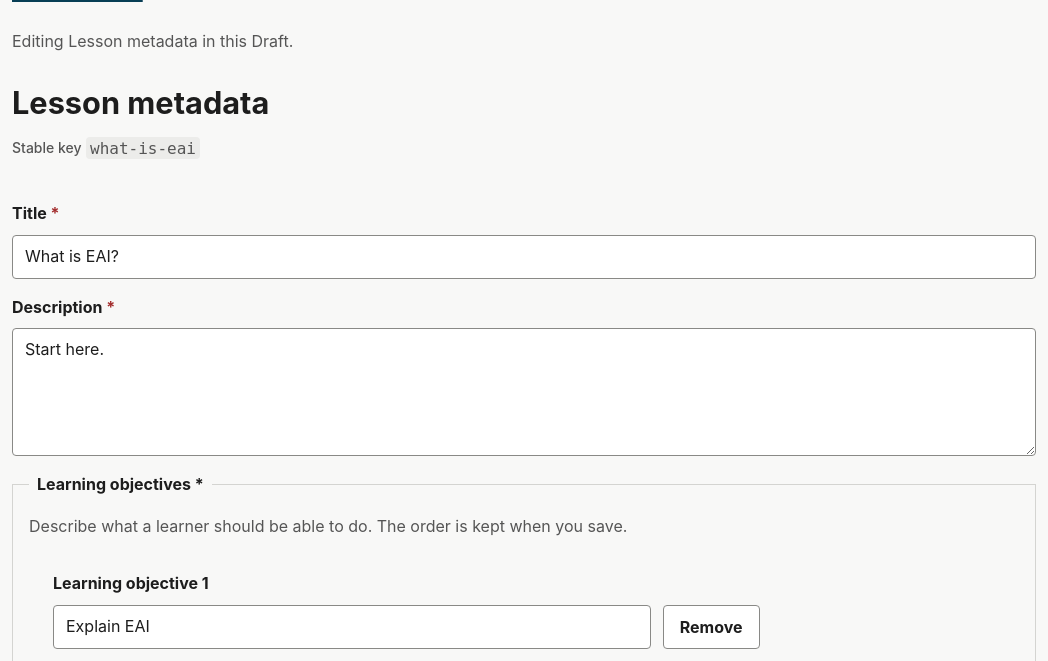
it: AuthoringDraftLessonPage › preserves a local prerequisite order after conflict and reloads only when requested
The width and height of the screenshot is (1048, 661).
Replace the text in the field labelled "Title *" with "My metadata title" at coordinates (524, 256), box [12,234,1036,278]
(page scrolled)
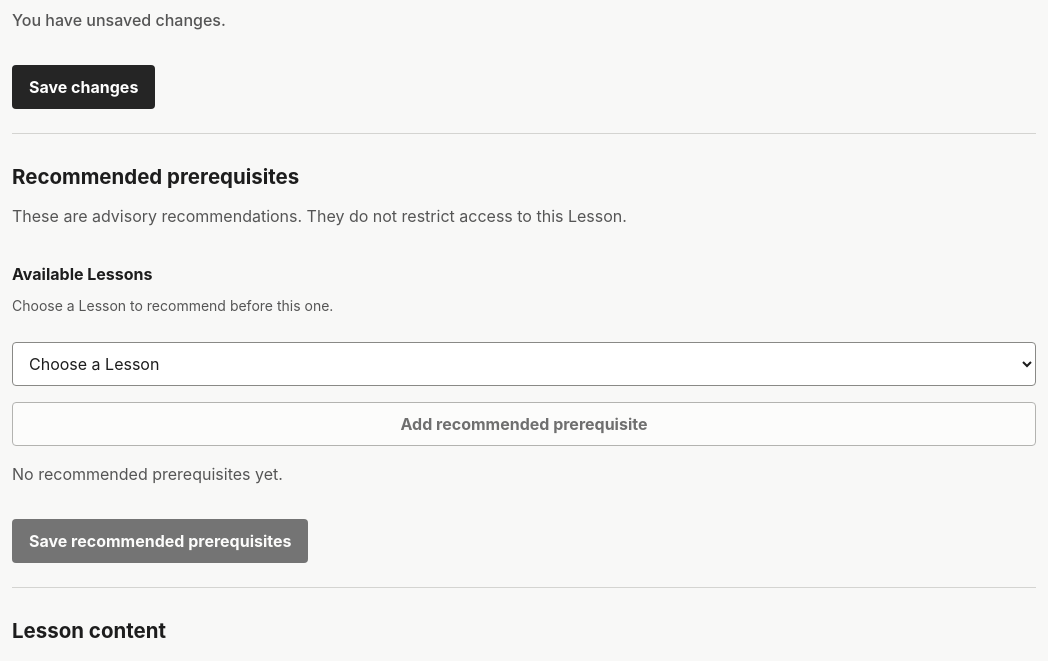
Select "Introduction to EAI (intro-to-eai)" in the dropdown labelled "Available Lessons" at coordinates (524, 364), box [12,342,1036,386]
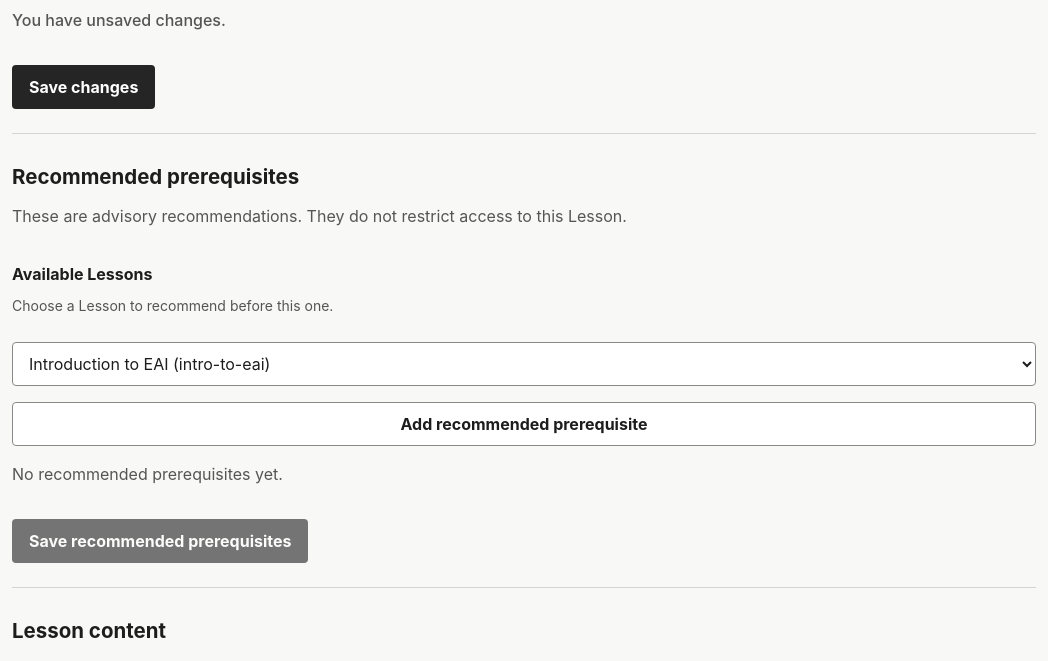
Click the button "Add recommended prerequisite" at coordinates (524, 424), box [12,402,1036,446]
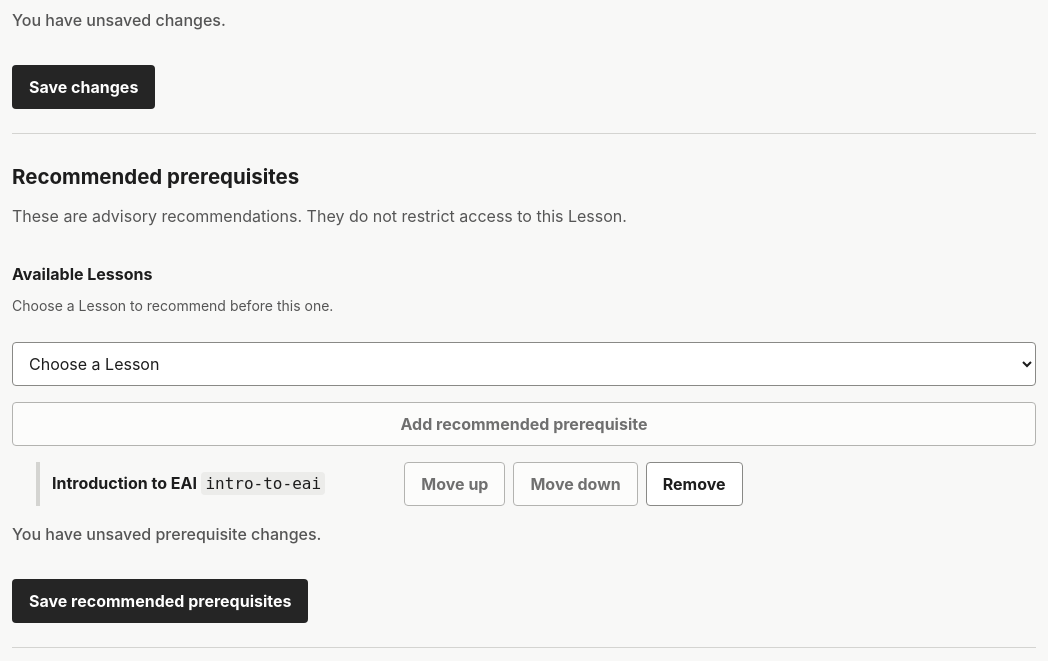
Click the button "Save recommended prerequisites" at coordinates (160, 601), box [12,579,308,623]
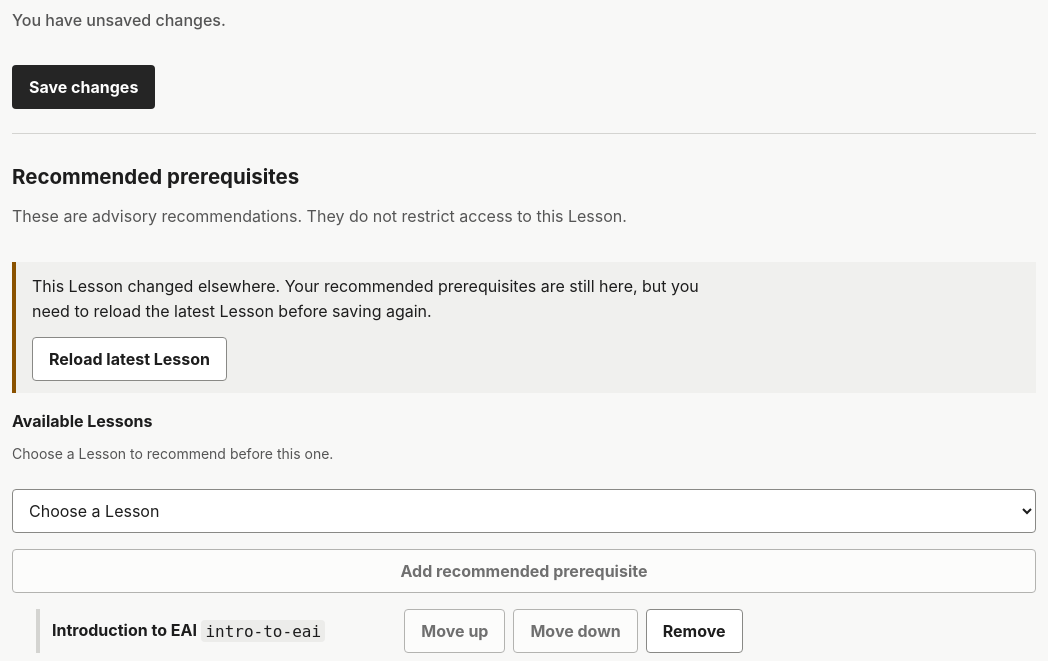
Expected: the text "Introduction to EAI" is shown, [52,620,197,640]
Expected: the text "recommended prerequisites are still here" is shown, [32,276,699,321]
Click the button "Reload latest Lesson" at coordinates (130, 359), box [32,337,227,381]
(page scrolled)
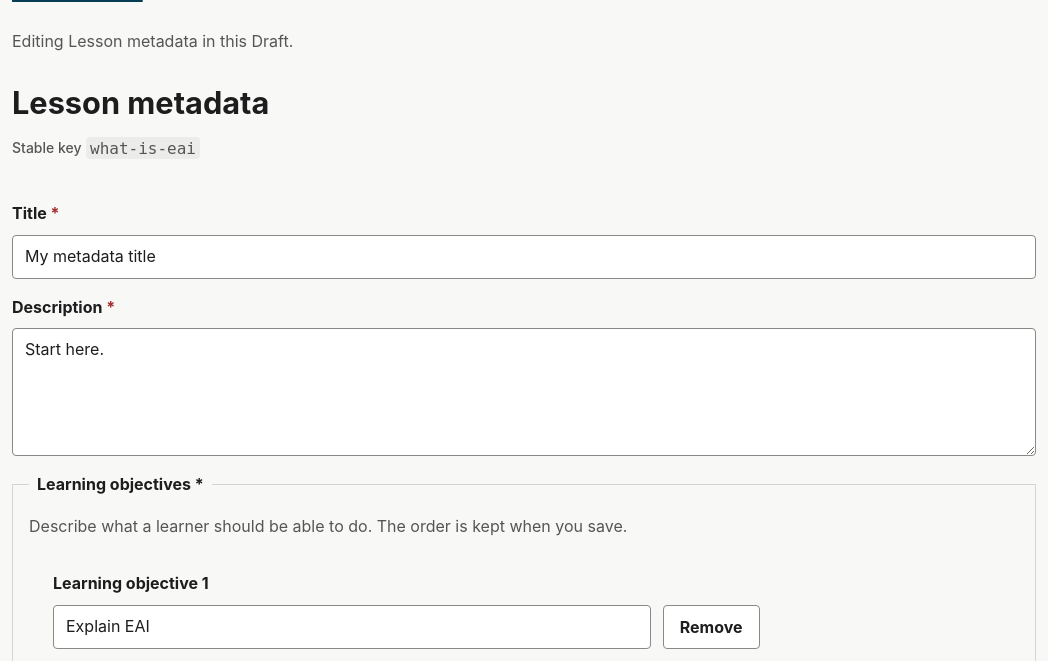
Expected: the text "Ordered recommended prerequisites" no longer shows "Introduction to EAI"
